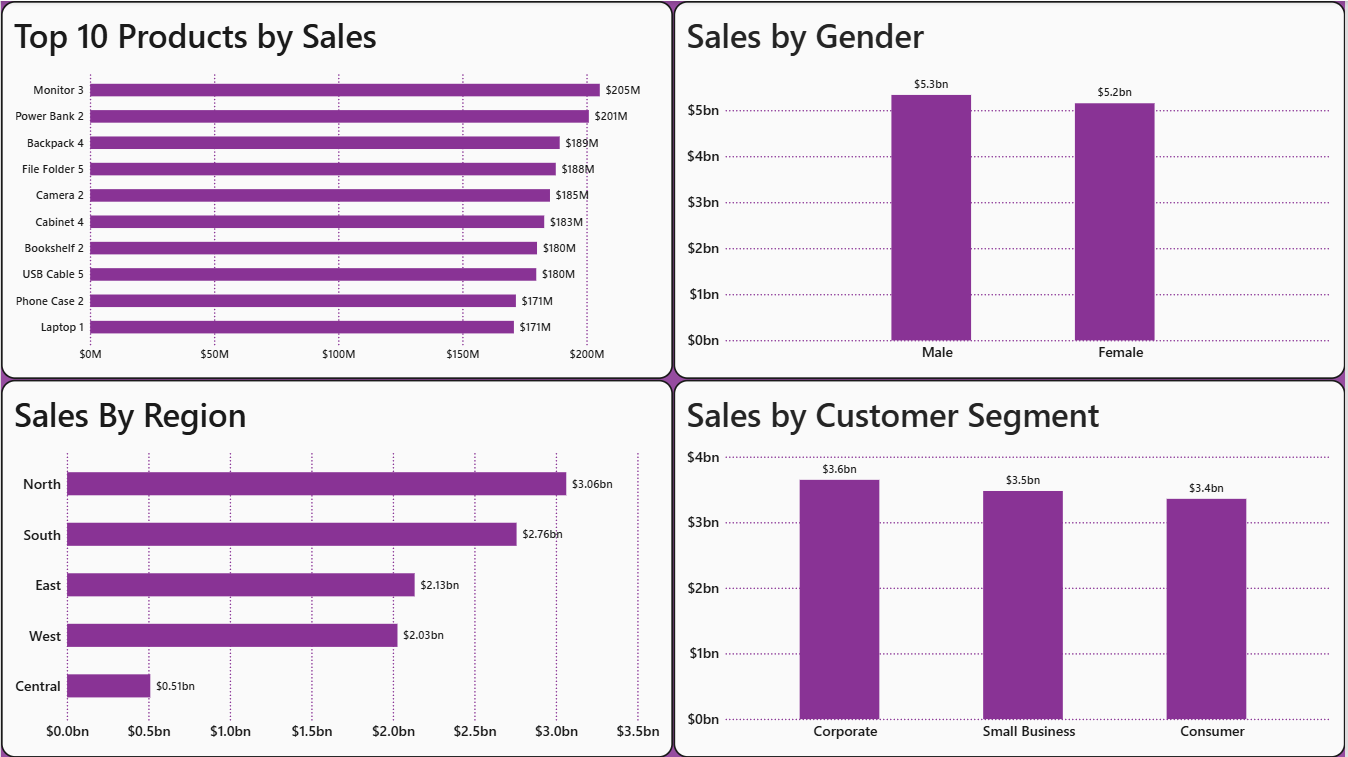

Layout of this report page (visuals, bound fields, positions):
{"tool":"powerbi","page":{"name":"Product & Customer Analysis","canvas":[1920,1080],"ordinal":1},"visuals":[{"type":"clusteredBarChart","title":"Top 10 Products by Sales","fields":{"Category":["Dim_Products.ProductName"],"Y":["Fact_Sales.Total Sales"]},"box":[0,0,960,540],"z":0},{"type":"clusteredColumnChart","title":"Sales by Gender","fields":{"Category":["Dim_Customers.Gender"],"Y":["Fact_Sales.Total Sales"]},"box":[960,0,960,540],"z":1000},{"type":"clusteredColumnChart","title":"Sales by Customer Segment","fields":{"Category":["Dim_Customers.Segment"],"Y":["Fact_Sales.Total Sales"]},"box":[960,540.3,960,540],"z":2000},{"type":"clusteredBarChart","title":"Sales By Region","fields":{"Category":["Dim_Customers.Region"],"Y":["Fact_Sales.Total Sales"]},"box":[0,540.3,960,540],"z":3000}]}

Visuals, with their boxes in screenshot pixels (x1, y1, x2, y2), scaled from the page's 1920x1080 canvas onto the 1348x757 screenshot:
"Top 10 Products by Sales" clusteredBarChart: {"left": 0, "top": 0, "right": 674, "bottom": 378}
"Sales by Gender" clusteredColumnChart: {"left": 674, "top": 0, "right": 1347, "bottom": 378}
"Sales by Customer Segment" clusteredColumnChart: {"left": 674, "top": 379, "right": 1347, "bottom": 756}
"Sales By Region" clusteredBarChart: {"left": 0, "top": 379, "right": 674, "bottom": 756}
